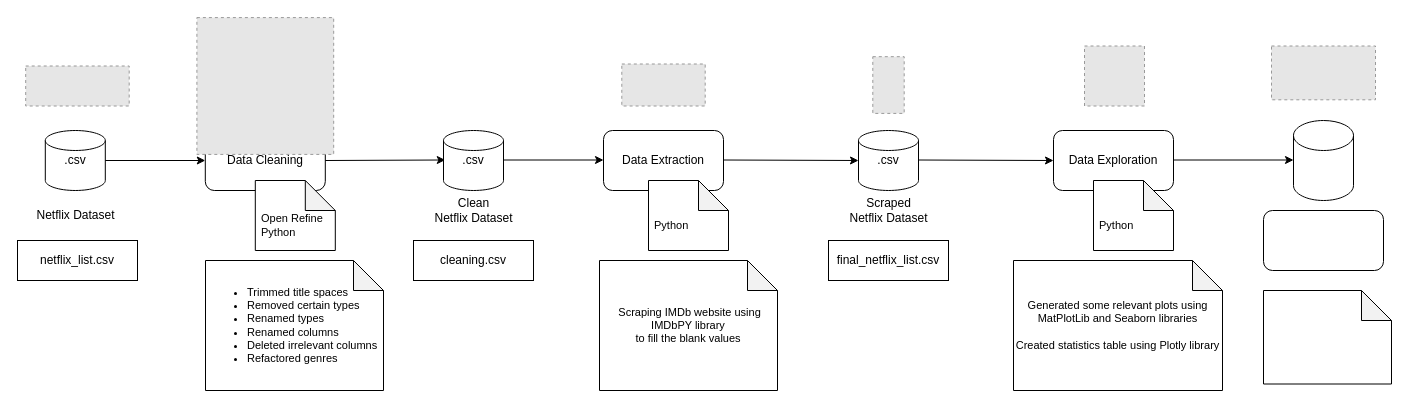
This 1409x408 diagram has some shape labels left out. Grey dashed boxes stand in for pictures. Each missing label, with the centre of its shape:
Data Storage: (1323,240)
SQL DB: (1323,160)
Stored the clean data in a MySQL database: (1327,337)
